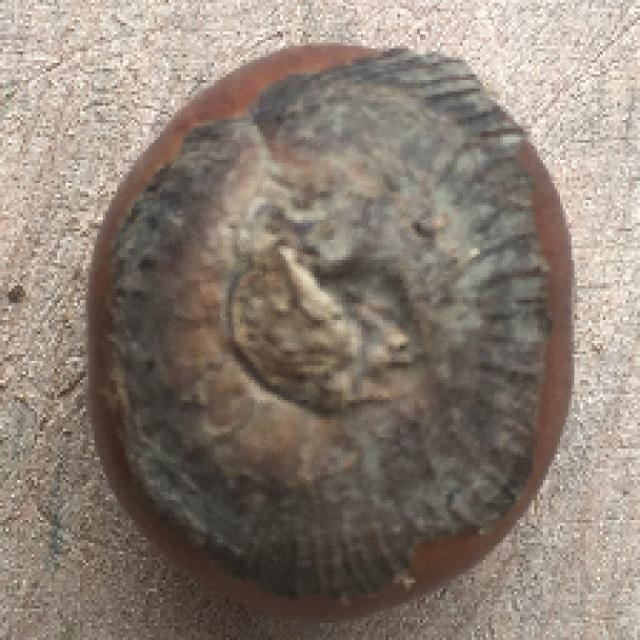damagedHazelnut: (97, 40, 582, 624)
